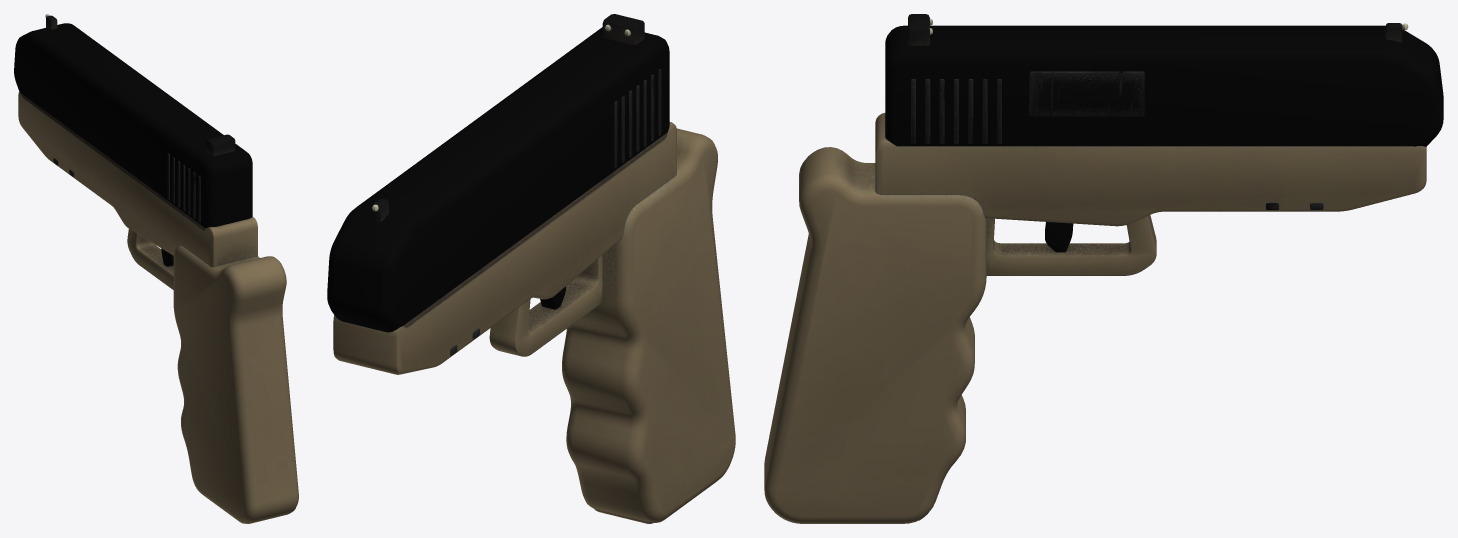
3 renders of one model, left to right at view 1: azimuth 30°, elevation 25°; view 2: azimuth 150°, elevation 25°; view 3: azimuth 270°, elevation 25°, orthographic. The views are drawn at different scales.
Parts seen in each view (by area): view 1: body_furniture, slide_receiver, slide_metal; view 2: body_furniture, slide_receiver, slide_metal; view 3: body_furniture, slide_receiver, slide_metal.
Part boxes in pixels (bbox=[...]): body_furniture: bbox=[18, 91, 298, 523]; slide_receiver: bbox=[14, 23, 252, 228]; slide_metal: bbox=[45, 14, 235, 155]; body_furniture: bbox=[333, 122, 735, 522]; slide_receiver: bbox=[327, 27, 669, 332]; slide_metal: bbox=[372, 14, 644, 221]; body_furniture: bbox=[764, 113, 1426, 523]; slide_receiver: bbox=[885, 25, 1443, 146]; slide_metal: bbox=[908, 14, 1408, 45].
Size of the model in its own units: 0.031 by 0.1955 by 0.2458.
6 materials, 6 textured.
